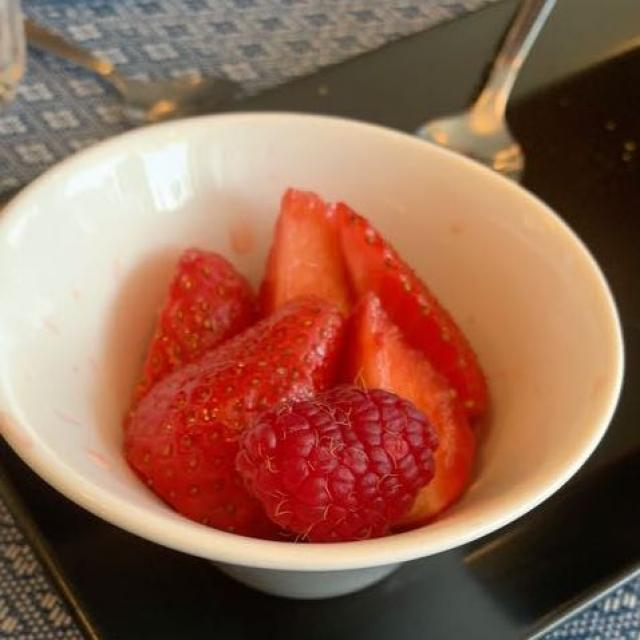raspberries: (228, 376, 462, 544)
strawberries: (124, 198, 487, 536)
